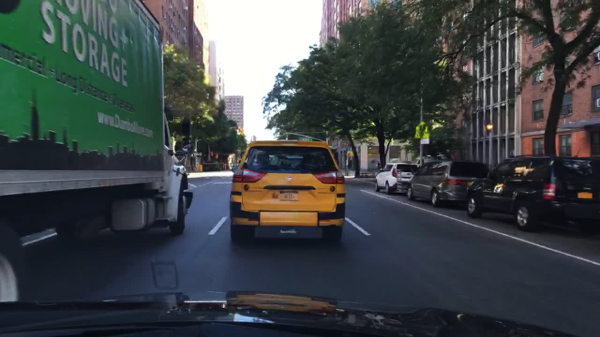car: (227, 139, 347, 244), (463, 154, 599, 235), (405, 160, 489, 208), (373, 160, 421, 196)
traffic light: (191, 153, 196, 159), (194, 147, 198, 153)
traffic sign: (414, 121, 430, 139), (419, 137, 430, 145), (298, 137, 311, 142), (349, 151, 355, 158), (195, 153, 200, 157)
truck: (0, 0, 195, 304)
